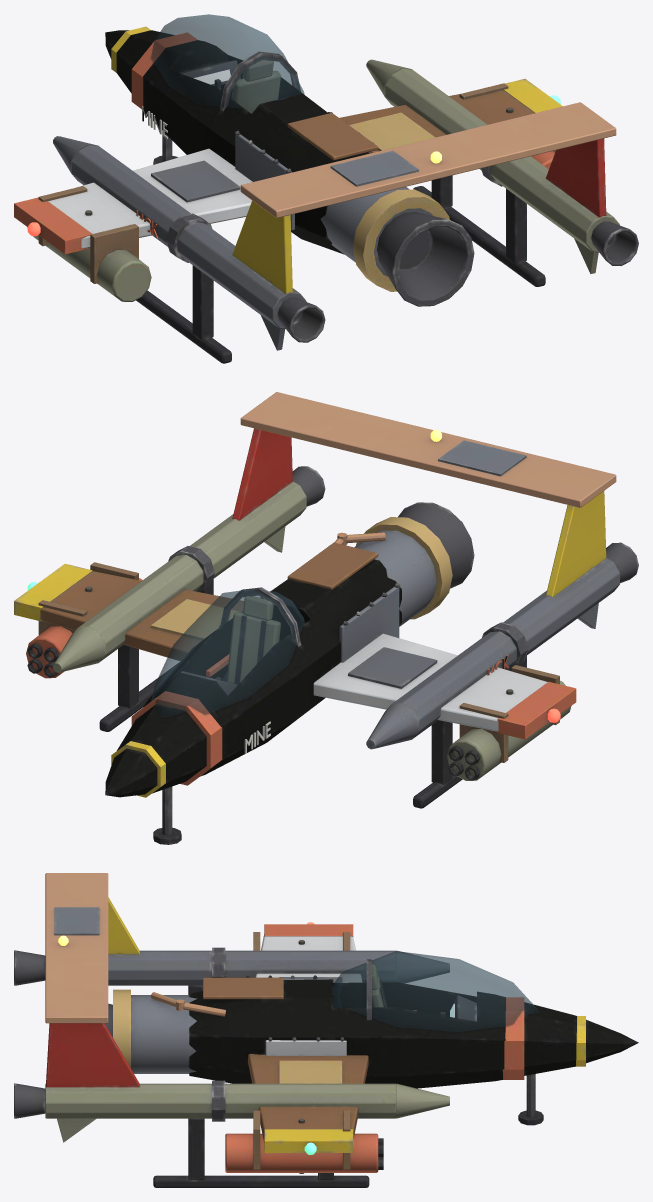
Rendered from jackal.glb.
3 views of the same model, one above another, from view 1: azimuth 30°, elevation 25°; view 2: azimuth 150°, elevation 25°; view 3: azimuth 270°, elevation 25° (orthographic). The views are drawn at different scales.
Parts seen in each view (by area): view 1: hull, glass, lights; view 2: hull, glass; view 3: hull, glass.
Part boxes in pixels (<box>): hull: <box>14,26,638,363</box>; glass: <box>151,14,304,113</box>; lights: <box>27,69,560,236</box>; hull: <box>14,392,638,844</box>; glass: <box>151,590,304,717</box>; hull: <box>14,873,638,1187</box>; glass: <box>331,951,539,1031</box>.
Bounding box in the file's own units: 5.93 × 2.26 × 6.95.
Materials: 22 (18 with a texture image).
